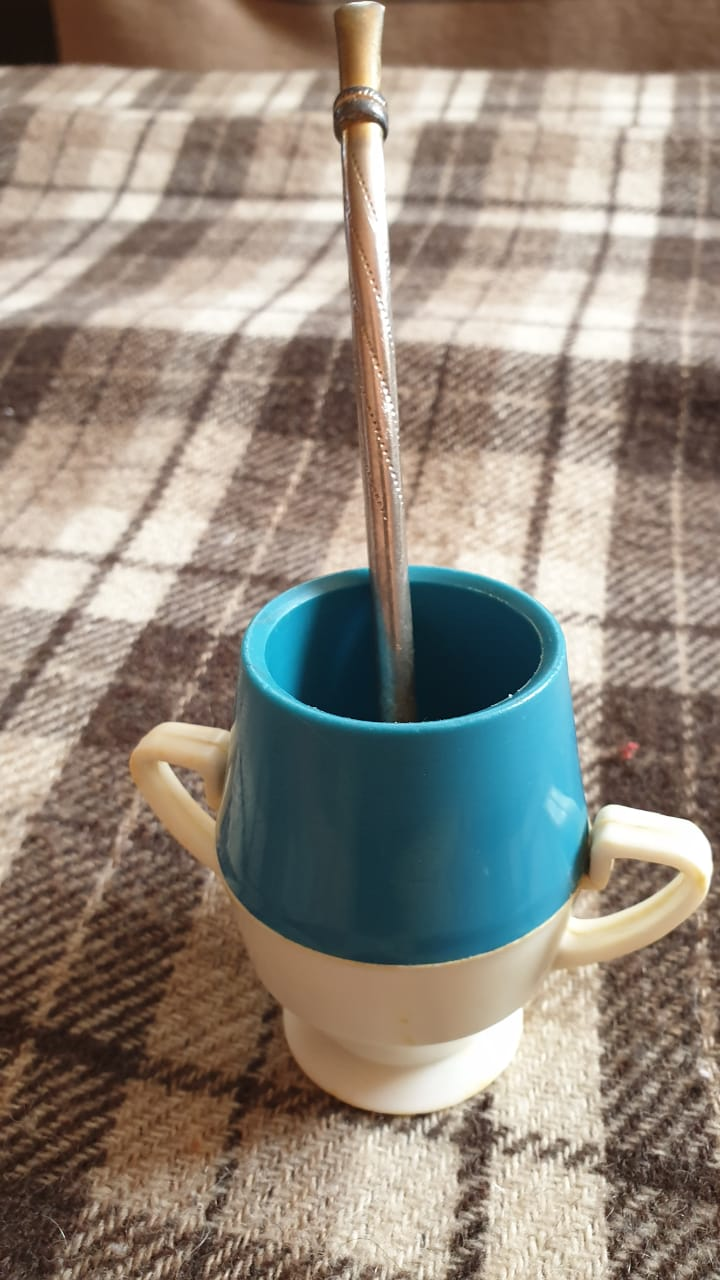mate: (112, 548, 716, 1145)
plastico: (123, 553, 716, 1119)
